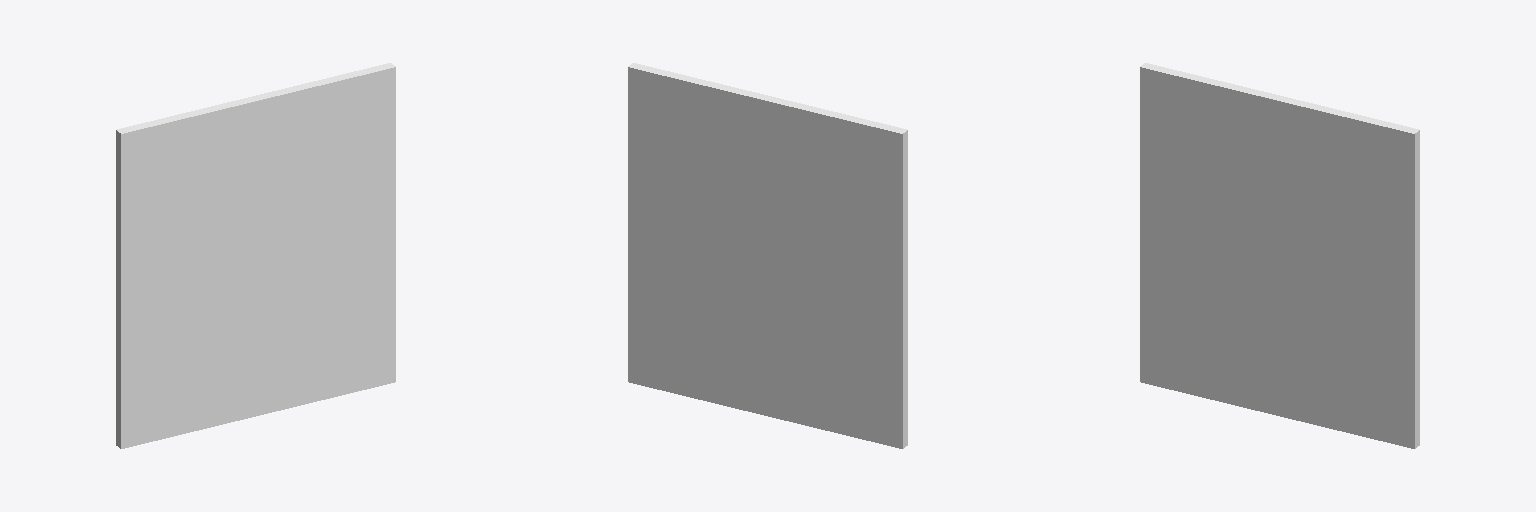
File: original-35.obj
The picture shows the model from 3 angles: view 1: azimuth 30°, elevation 25°; view 2: azimuth 150°, elevation 25°; view 3: azimuth 330°, elevation 25°; orthographic projection.
Visible parts, largest first — view 1: DR_FACE_9_1/DR_FACE_9/mesh25/mesh25-geometry#mesh25-geometry; view 2: DR_FACE_9_1/DR_FACE_9/mesh25/mesh25-geometry#mesh25-geometry; view 3: DR_FACE_9_1/DR_FACE_9/mesh25/mesh25-geometry#mesh25-geometry.
Part boxes in pixels (left/top/right/bottom): DR_FACE_9_1/DR_FACE_9/mesh25/mesh25-geometry#mesh25-geometry: left=116, top=63, right=395, bottom=448; DR_FACE_9_1/DR_FACE_9/mesh25/mesh25-geometry#mesh25-geometry: left=628, top=63, right=907, bottom=448; DR_FACE_9_1/DR_FACE_9/mesh25/mesh25-geometry#mesh25-geometry: left=1140, top=63, right=1419, bottom=448.
Size of the model in its own units: 0.673 by 0.7374 by 0.0249.